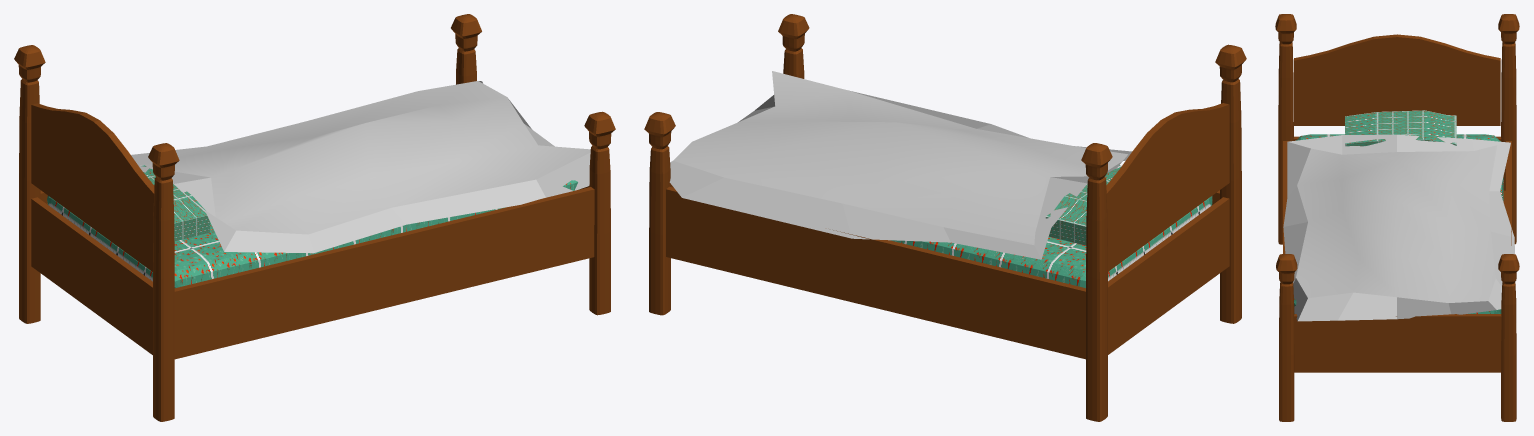
File: bed_001.FBX
3 views of the same model, side by side, from view 1: azimuth 30°, elevation 25°; view 2: azimuth 150°, elevation 25°; view 3: azimuth 270°, elevation 25° (orthographic). The views are drawn at different scales.
Parts seen in each view (by area): view 1: Box002, comforter_001, mattress, pillow_001; view 2: Box002, comforter_001, mattress, pillow_001; view 3: comforter_001, Box002, pillow_001, mattress.
Boxes of the visible parts, box(x1,y1,x2,y2) form: Box002: box(14, 14, 615, 421); comforter_001: box(131, 81, 590, 253); mattress: box(47, 180, 579, 287); pillow_001: box(140, 165, 209, 241); Box002: box(644, 14, 1246, 421); comforter_001: box(669, 71, 1131, 259); mattress: box(890, 165, 1212, 287); pillow_001: box(1045, 169, 1118, 245); comforter_001: box(1283, 134, 1514, 321); Box002: box(1275, 14, 1519, 421); pillow_001: box(1345, 110, 1456, 146); mattress: box(1294, 134, 1503, 313).
Bounding box in the file's own units: 2.05 × 1.16 × 1.14.
